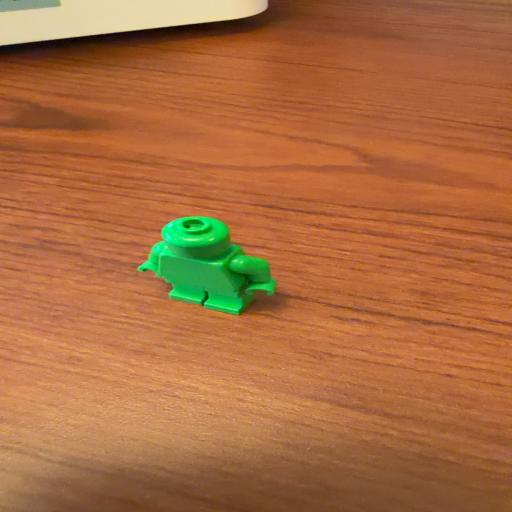UnoQ-minifig-detector: (138, 215, 276, 315)
